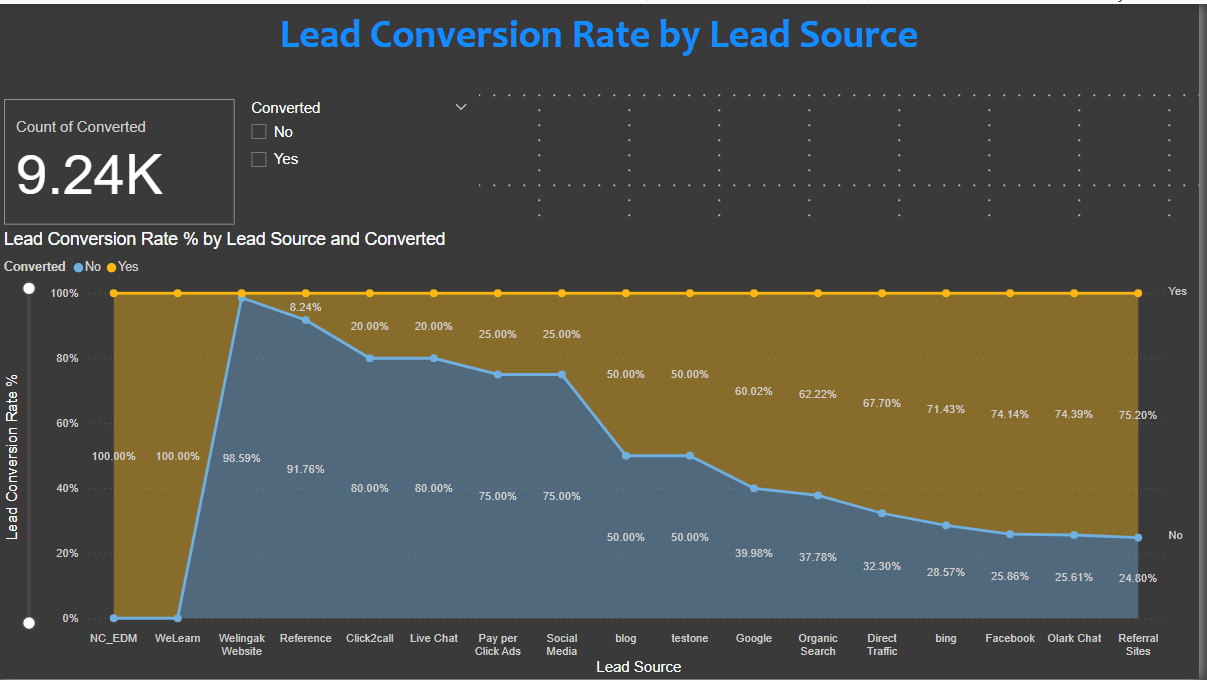

Layout of this report page (visuals, bound fields, positions):
{"tool":"powerbi","page":{"name":"Lead Conversion by source","canvas":[1280,720],"ordinal":3},"visuals":[{"type":"hundredPercentStackedAreaChart","fields":{"Category":["Customer Lead Prediction.Lead Source"],"Y":["Customer Lead Prediction.Lead Conversion Rate %"],"Series":["Customer Lead Prediction.Converted"]},"box":[0,240,1280,480],"z":0},{"type":"cardVisual","fields":{"Data":["CountNonNull(Customer Lead Prediction.Converted)"]},"box":[0,96,256,144],"z":1000},{"type":"slicer","fields":{"Values":["Customer Lead Prediction.Converted"]},"box":[256,96,256,144],"z":2000},{"type":"textbox","box":[0,0,1280,96],"z":3000}]}

Visuals, with their boxes in screenshot pixels (x1, y1, x2, y2), scaled from the page's 1280x720 canvas onto the 1207x680 screenshot:
hundredPercentStackedAreaChart - Customer Lead Prediction.Lead Source x Customer Lead Prediction.Lead Conversion Rate %: crop(0, 227, 1206, 679)
cardVisual - CountNonNull(Customer Lead Prediction.Converted): crop(0, 91, 241, 227)
slicer - Customer Lead Prediction.Converted: crop(241, 91, 483, 227)
textbox: crop(0, 0, 1206, 91)
